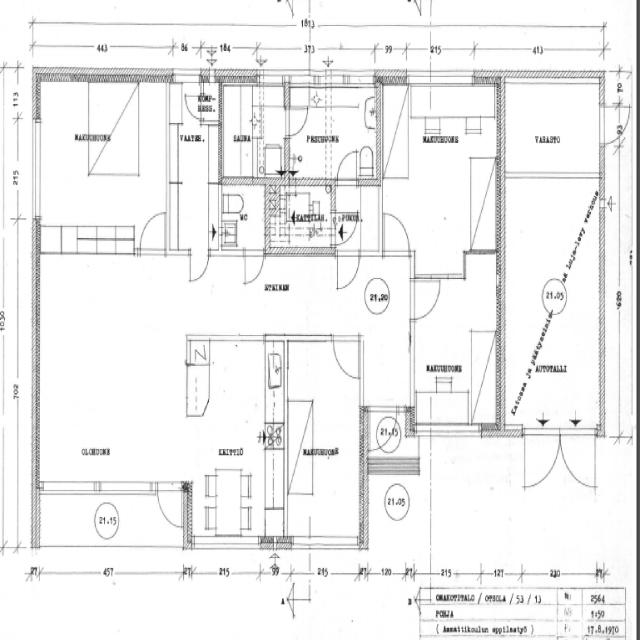door: (560, 426, 602, 496), (520, 425, 561, 494), (409, 273, 444, 324), (381, 207, 412, 259), (137, 207, 168, 259), (331, 331, 362, 382), (598, 99, 630, 148), (155, 480, 185, 532), (334, 247, 361, 292), (241, 243, 266, 287), (334, 145, 360, 186), (187, 247, 211, 285), (286, 104, 310, 138), (184, 92, 201, 121)
window: (28, 115, 46, 219), (196, 534, 259, 553), (428, 67, 476, 89), (323, 564, 362, 582), (210, 332, 264, 344)
zone: (500, 79, 603, 431), (36, 252, 189, 484), (36, 80, 221, 253), (186, 252, 285, 536), (382, 76, 500, 274), (286, 340, 362, 542), (223, 84, 380, 178), (408, 270, 497, 430), (267, 185, 335, 257), (219, 176, 270, 250), (365, 409, 415, 465)
